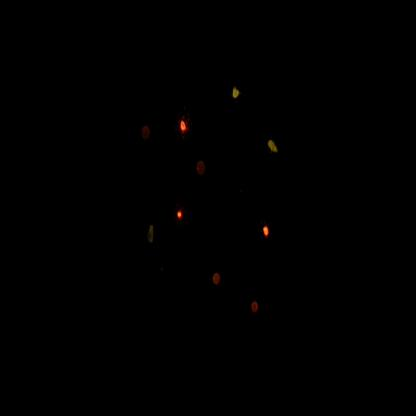PP: (263, 128, 286, 166), (143, 216, 160, 250), (229, 79, 247, 109)
PS: (208, 263, 227, 294), (139, 117, 155, 149), (194, 153, 210, 184), (246, 294, 263, 318)
PVC: (176, 112, 194, 145), (259, 217, 278, 247), (173, 202, 191, 231)
